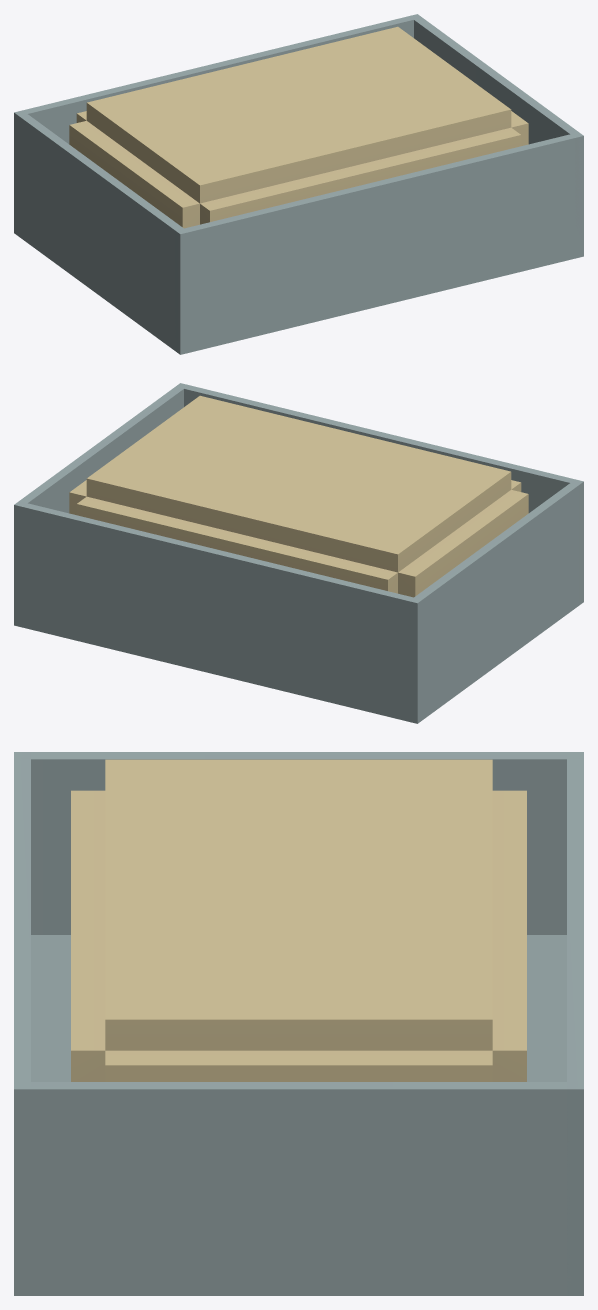
The model's file is mkt-tofu-block.glb.
3 views of the same model, one above another, from view 1: azimuth 30°, elevation 25°; view 2: azimuth 150°, elevation 25°; view 3: azimuth 270°, elevation 25° (orthographic). The views are drawn at different scales.
Parts seen in each view (by area): view 1: tray__glass, tofu__food; view 2: tray__glass, tofu__food; view 3: tray__glass, tofu__food.
Part boxes in pixels (x1,y1,x2,y2): tray__glass: [14, 14, 583, 354]; tofu__food: [69, 26, 528, 228]; tray__glass: [14, 383, 583, 723]; tofu__food: [69, 395, 528, 597]; tray__glass: [14, 752, 583, 1295]; tofu__food: [71, 759, 526, 1081].
Size of the model in its own units: 0.14 by 0.046 by 0.1.
